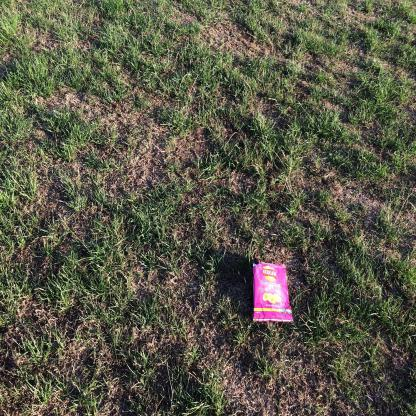plastik: (252, 262, 294, 322)
